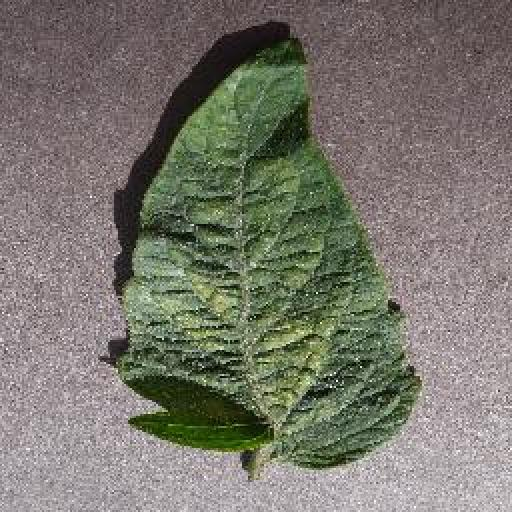Spider Mites: (120, 42, 421, 470)
